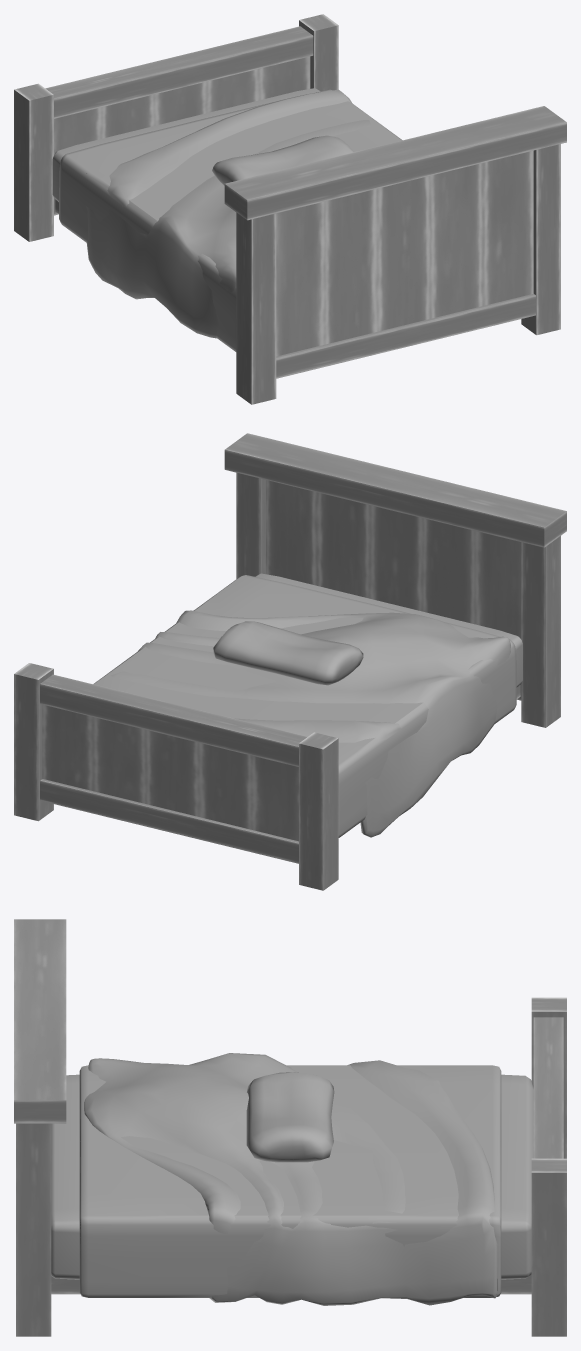
Rendered from BED STUFF.fbx.
3 views of the same model, one above another, from view 1: azimuth 30°, elevation 25°; view 2: azimuth 150°, elevation 25°; view 3: azimuth 270°, elevation 25° (orthographic). The views are drawn at different scales.
Visible parts, largest first — view 1: bed, Blanket_bad, Blanket_good, Pillow, Matress; view 2: bed, Blanket_bad, Blanket_good, Pillow, Matress; view 3: Blanket_bad, Blanket_good, bed, Matress, Pillow.
Part boxes in pixels (box(x1,y1,x2,y2)): bed: box(14, 14, 566, 404); Blanket_bad: box(86, 90, 371, 338); Blanket_good: box(59, 89, 402, 351); Pillow: box(212, 135, 353, 185); Matress: box(52, 88, 320, 201); bed: box(14, 433, 566, 890); Blanket_bad: box(111, 610, 510, 837); Blanket_good: box(93, 575, 516, 837); Pillow: box(213, 621, 363, 685); Matress: box(255, 573, 522, 687); Blanket_bad: box(84, 1053, 497, 1305); Blanket_good: box(79, 1065, 501, 1297); bed: box(14, 919, 566, 1336); Matress: box(51, 1074, 533, 1279); Pillow: box(246, 1072, 334, 1162).
Bounding box in the file's own units: 2.83 × 1.76 × 3.66.
Materials: 2 (1 with a texture image).
